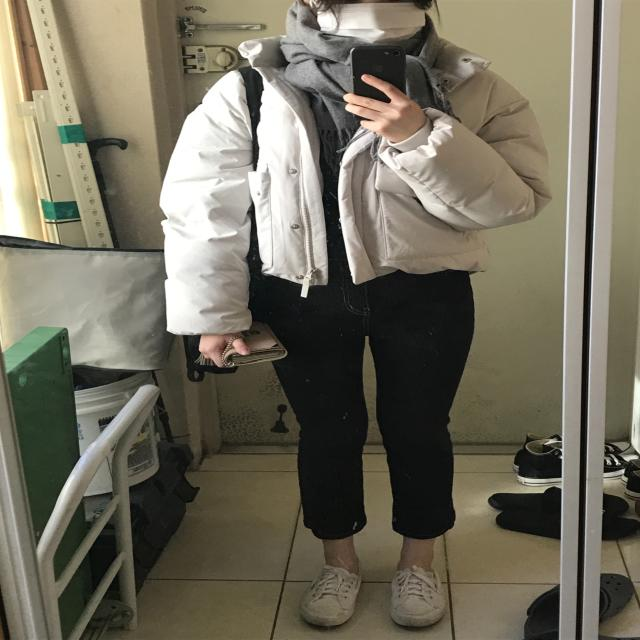denimpants: (264, 217, 478, 540)
padding: (162, 33, 548, 336)
